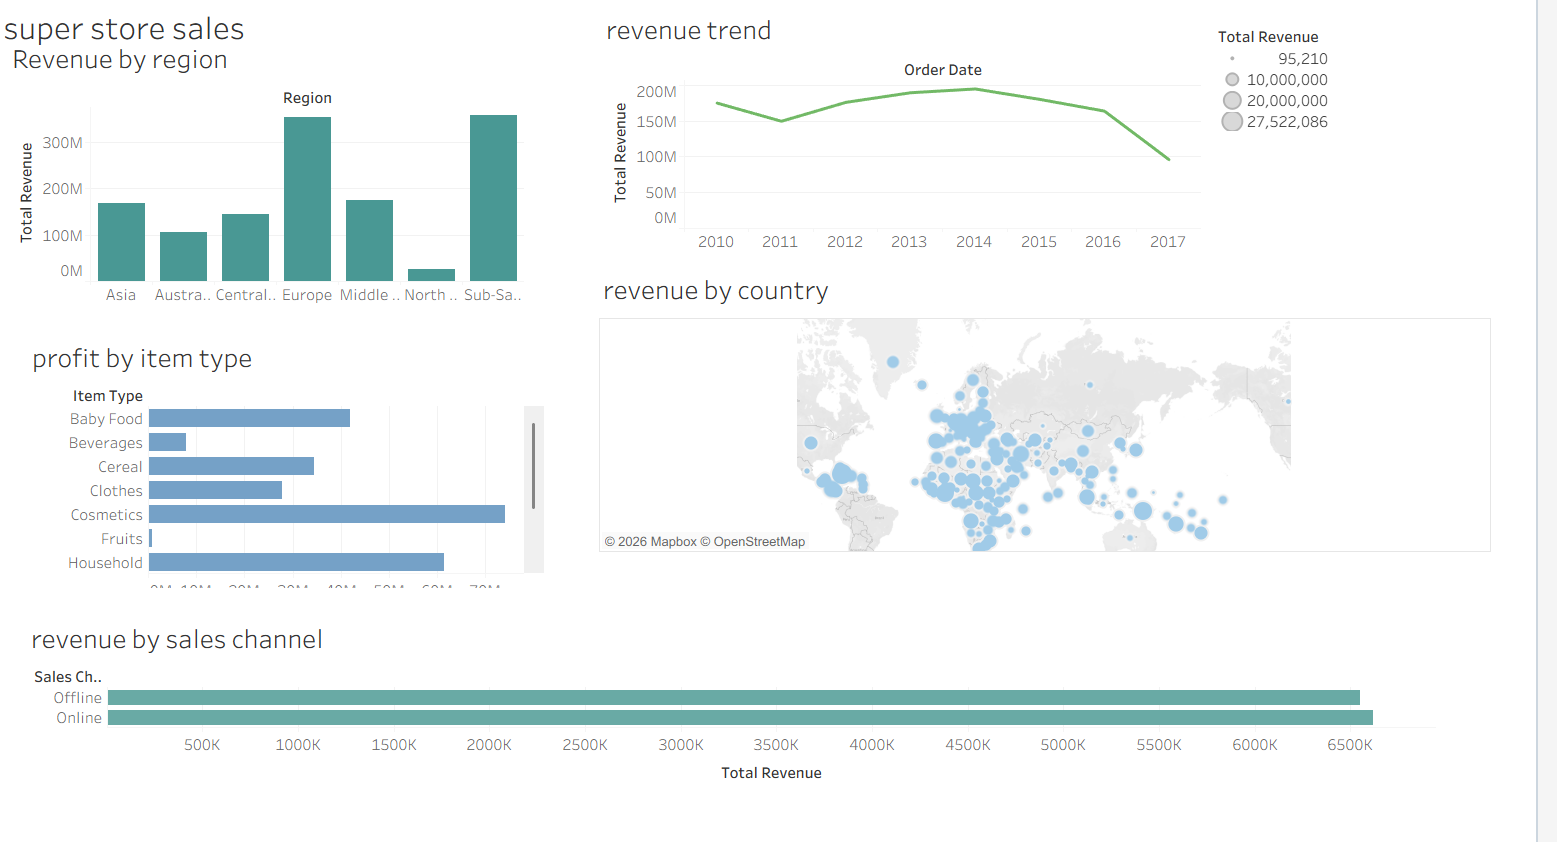

The page's visual inventory and layout, read from the dashboard file:
{"tool":"tableau","page":{"name":"super store sales","canvas":[1000,1000],"units":"permille","ordinal":0},"visuals":[{"type":"title","box":[5.2,9.4,989.7,58.7]},{"type":"worksheet","title":"revenue trend","mark":"Automatic","rows":["Total Revenue"],"cols":["Order Date"],"box":[396.1,16.4,386.4,287.6]},{"type":"legend","title":"revenue by country","param":"[federated.1wu78u914bgh8810tw8y80kw6m0i].[sum:Total Revenue:qk]","box":[793.6,37.6,90.3,124.4]},{"type":"worksheet","title":"Revenue by region","mark":"Automatic","rows":["Total Revenue"],"cols":["Region"],"box":[12.9,50.5,332.9,333.3]},{"type":"worksheet","title":"revenue by country","mark":"Automatic","box":[394.2,321.6,575.5,333.3]},{"type":"worksheet","title":"profit by item type","mark":"Automatic","rows":["Item Type"],"cols":["Total Profit"],"box":[25.8,401.4,332.9,295.8]}]}

Visuals, with their boxes on the dashboard's canvas, which has no fixed pixel size, in thousandths of its width and height (x1, y1, x2, y2). These are canvas units, not pixel positions in the 1557x842 screenshot, which may show the page scaled, cropped or inside an application window:
title: [x1=5, y1=9, x2=995, y2=68]
"revenue trend" worksheet: [x1=396, y1=16, x2=782, y2=304]
"revenue by country" legend: [x1=794, y1=38, x2=884, y2=162]
"Revenue by region" worksheet: [x1=13, y1=50, x2=346, y2=384]
"revenue by country" worksheet: [x1=394, y1=322, x2=970, y2=655]
"profit by item type" worksheet: [x1=26, y1=401, x2=359, y2=697]
